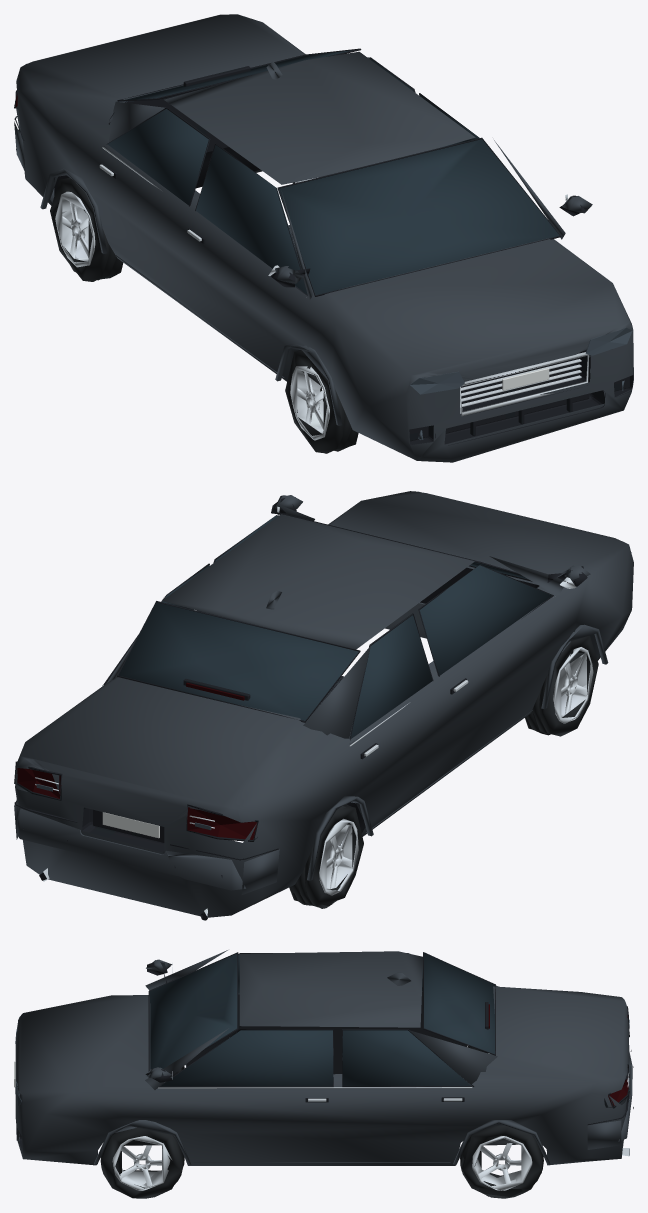
File: car-sedan-graphite.glb
The picture shows the model from 3 angles, top to bottom: view 1: azimuth 30°, elevation 25°; view 2: azimuth 150°, elevation 25°; view 3: azimuth 270°, elevation 25°; orthographic projection. The views are drawn at different scales.
Parts seen in each view (by area): view 1: Aerodynamic mirror painted cap, Front side door glass, Aerodynamic mirror lower housing, 107 reused Alloy_five_spoke_rim, 107 reused Sculpted_tyre, Clear reversing lens insert; view 2: Aerodynamic mirror painted cap, Front side door glass, Aerodynamic mirror lower housing, 107 reused Sculpted_tyre, 107 reused Alloy_five_spoke_rim, Flush corner wrapping ruby lamp lens, Front license plate; view 3: Aerodynamic mirror painted cap, Front side door glass, 107 reused Sculpted_tyre, 107 reused Alloy_five_spoke_rim, Aerodynamic mirror lower housing.
Part boxes in pixels (x1,y1,x2,y2): Aerodynamic mirror painted cap: (14,14,633,462); Front side door glass: (107,50,559,295); Aerodynamic mirror lower housing: (14,48,633,445); 107 reused Alloy_five_spoke_rim: (55,147,589,440); 107 reused Sculpted_tyre: (50,177,358,453); Clear reversing lens insert: (410,327,632,439); Aerodynamic mirror painted cap: (14,491,633,917); Front side door glass: (106,514,552,738); Aerodynamic mirror lower housing: (14,498,587,920); 107 reused Sculpted_tyre: (289,635,598,908); 107 reused Alloy_five_spoke_rim: (35,506,593,920); Flush corner wrapping ruby lamp lens: (15,682,257,839); Front license plate: (102,812,159,838); Aerodynamic mirror painted cap: (15,950,632,1165); Front side door glass: (149,953,494,1086); 107 reused Sculpted_tyre: (100,1046,543,1198); 107 reused Alloy_five_spoke_rim: (112,963,629,1190); Aerodynamic mirror lower housing: (15,952,633,1155).
Bounding box in the file's own units: 7.13 × 5.06 × 15.87.
8 materials, 8 textured.
